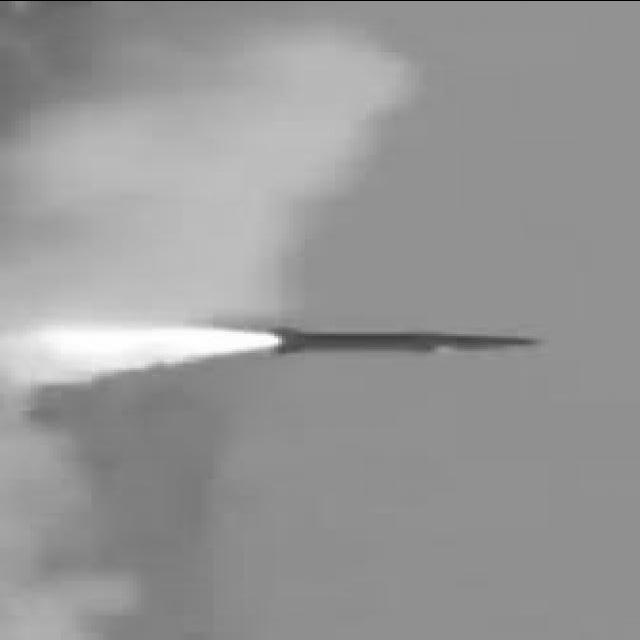Missile: (272, 324, 555, 361)
